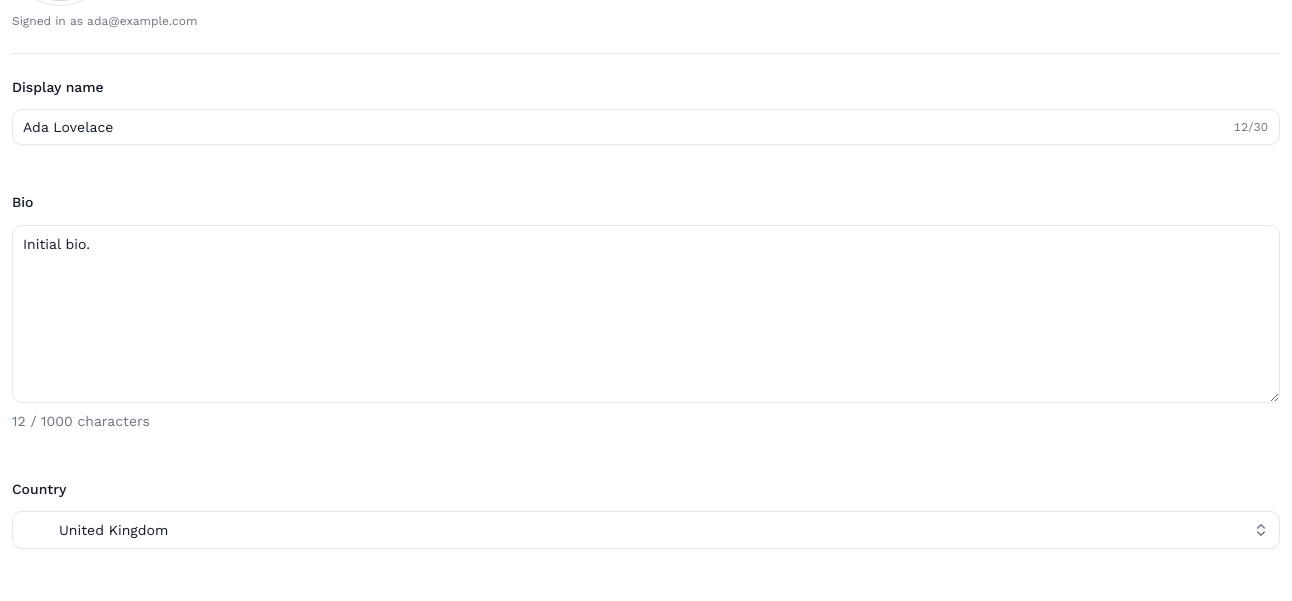
Test: ProfileIdentityForm › offers Country without a separate Location field or automatic saving
The image size is (1292, 601).
Click the button with aria-label "Country".
click(114, 530)  # box [12, 511, 1280, 549]
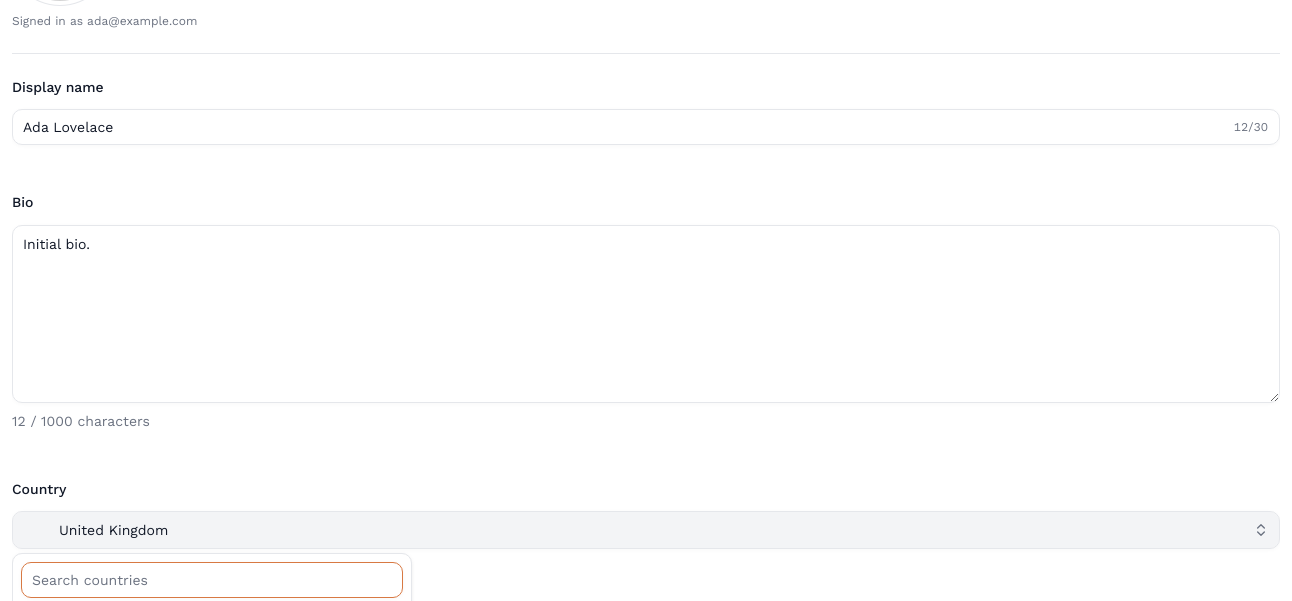
Type "Japan" into the dropdown named "Search country".
click(212, 580); type("Japan")  # box [21, 562, 403, 598]
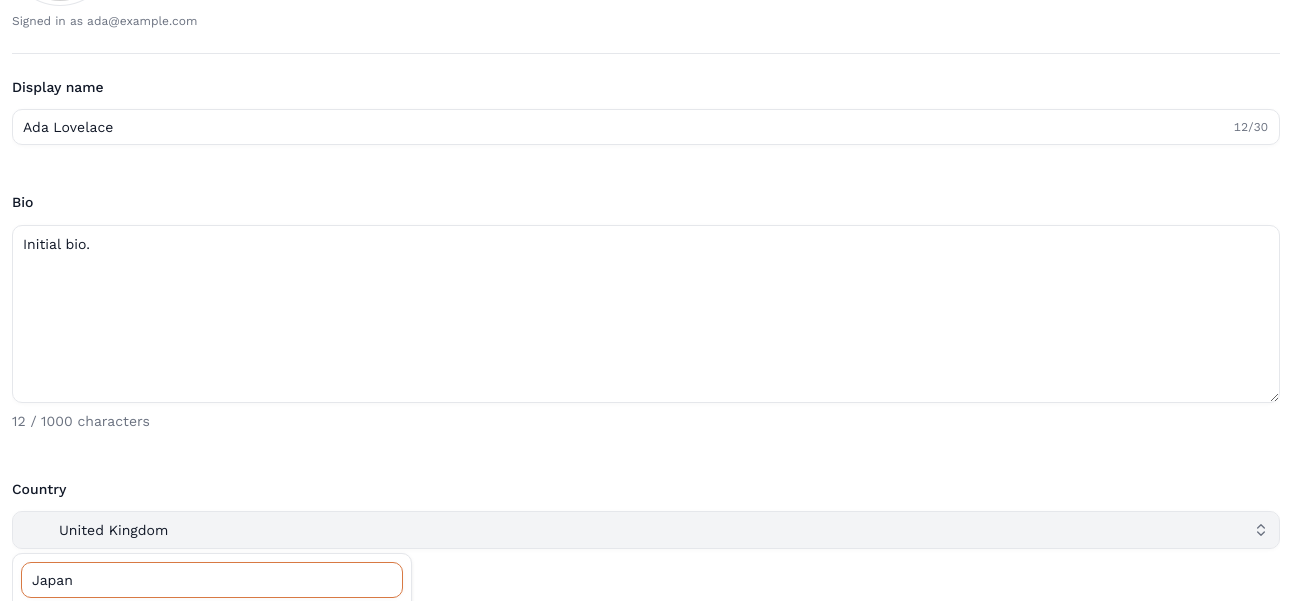
Press Arrowdown Enter
(page scrolled)
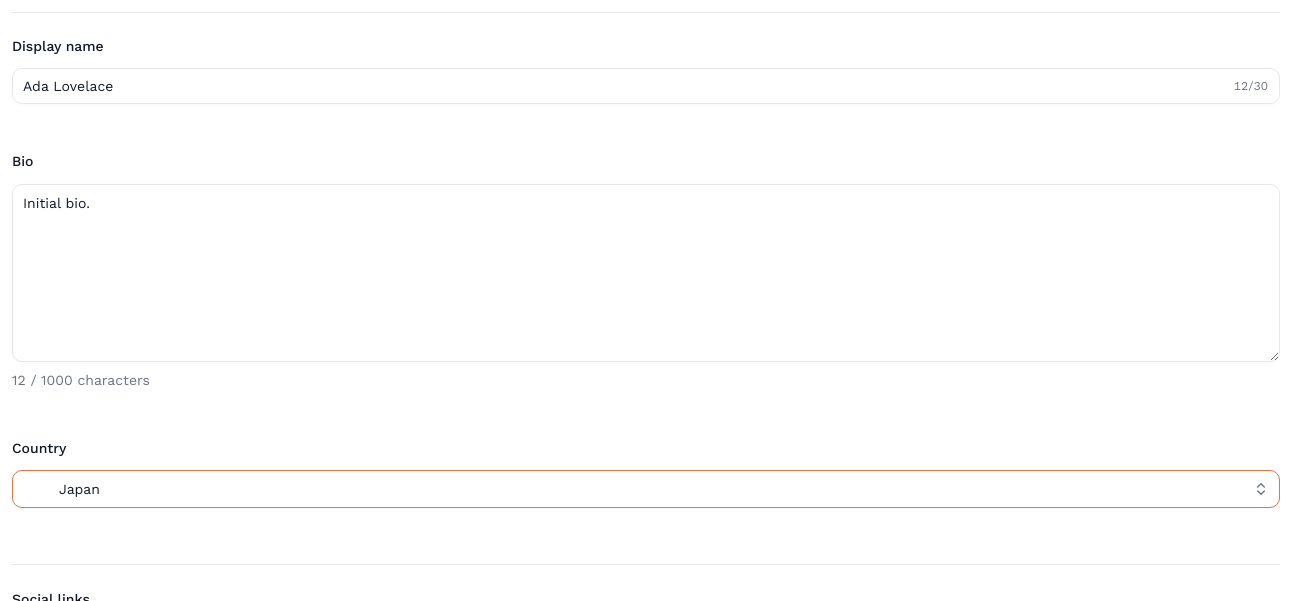
Result: the button with aria-label "Country" reads "Japan" at [12, 470, 1280, 508]
